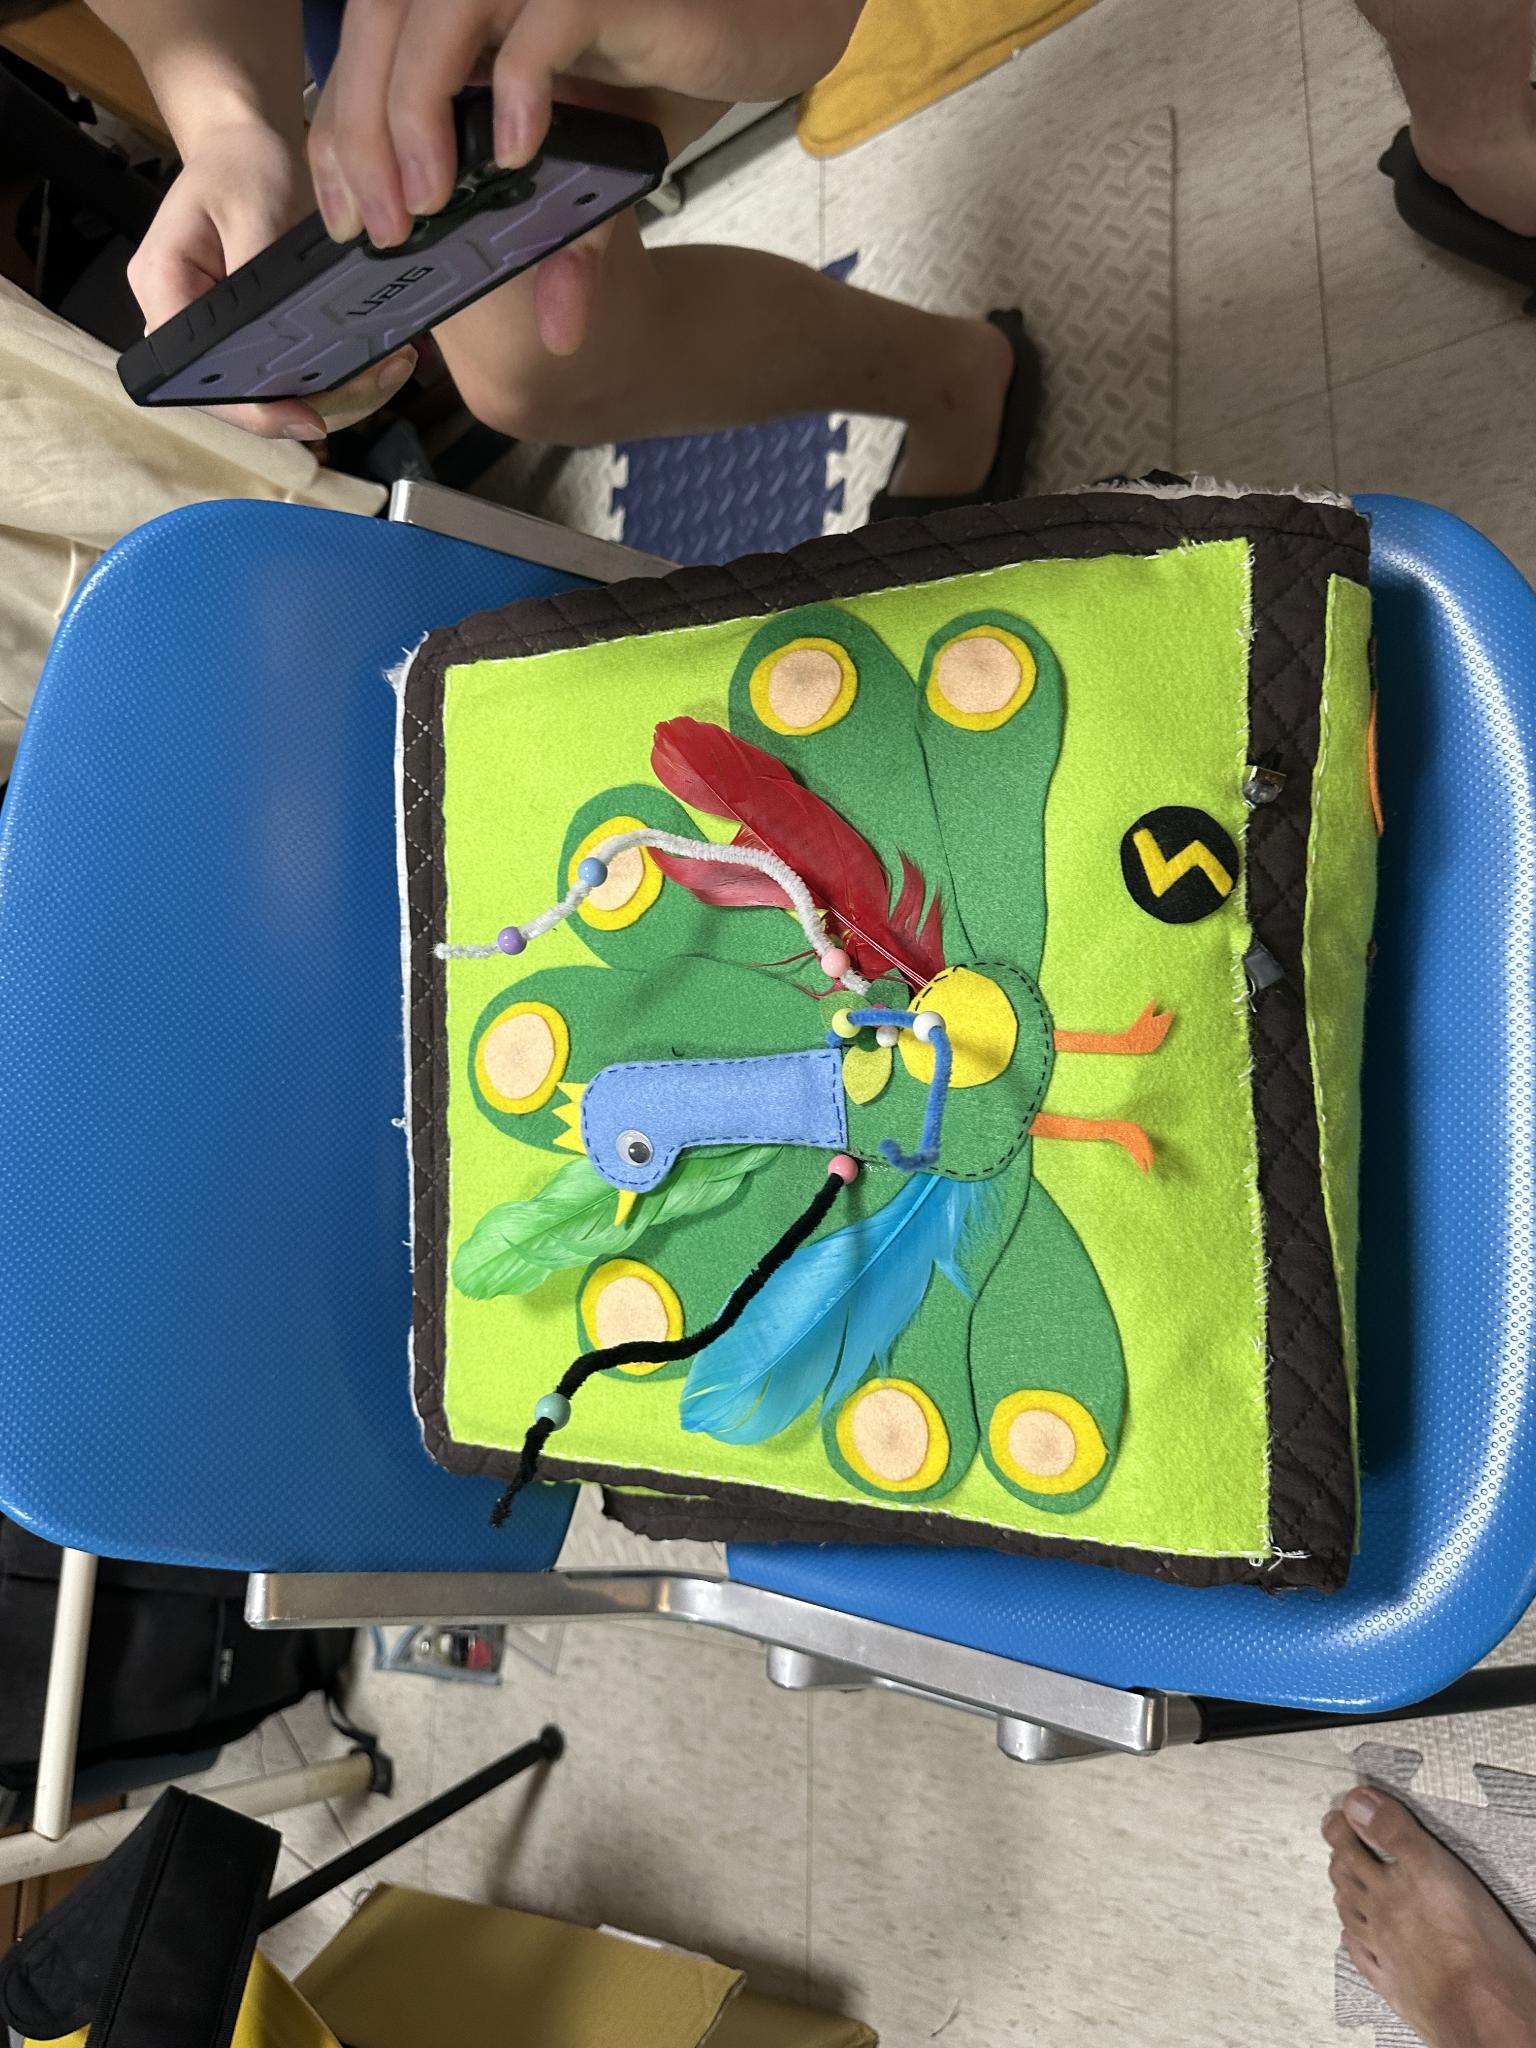bead: (528, 1388, 592, 1440), (818, 1142, 865, 1188), (913, 1000, 957, 1048), (494, 906, 524, 964), (576, 853, 618, 890), (821, 1005, 858, 1047), (818, 942, 850, 989)
